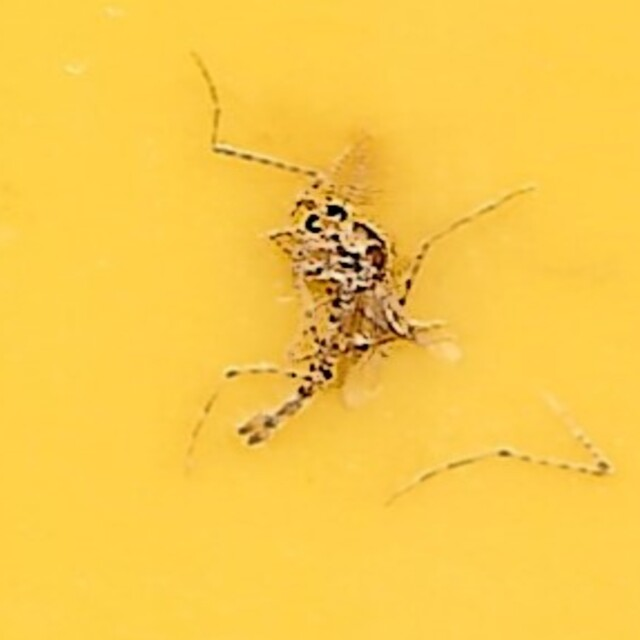Nematocera: (223, 185, 417, 455)
